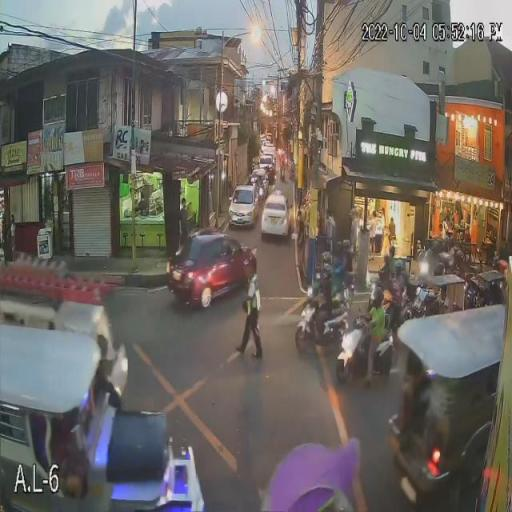helmet: (370, 287, 385, 309), (314, 270, 330, 285), (394, 258, 404, 276), (331, 241, 343, 254), (343, 240, 350, 250)
motorcycle: (336, 327, 396, 384), (294, 302, 343, 344)
rider: (368, 308, 386, 385), (316, 290, 332, 336), (335, 254, 345, 276), (346, 252, 354, 274)
